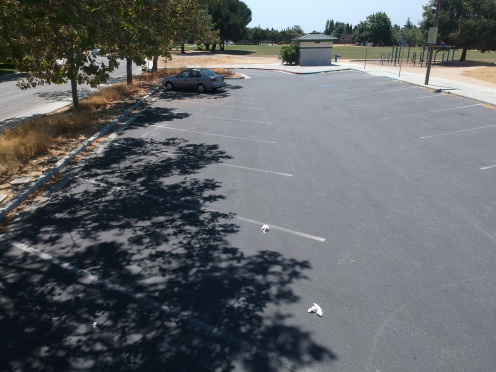plastic bag: (256, 221, 274, 236)
